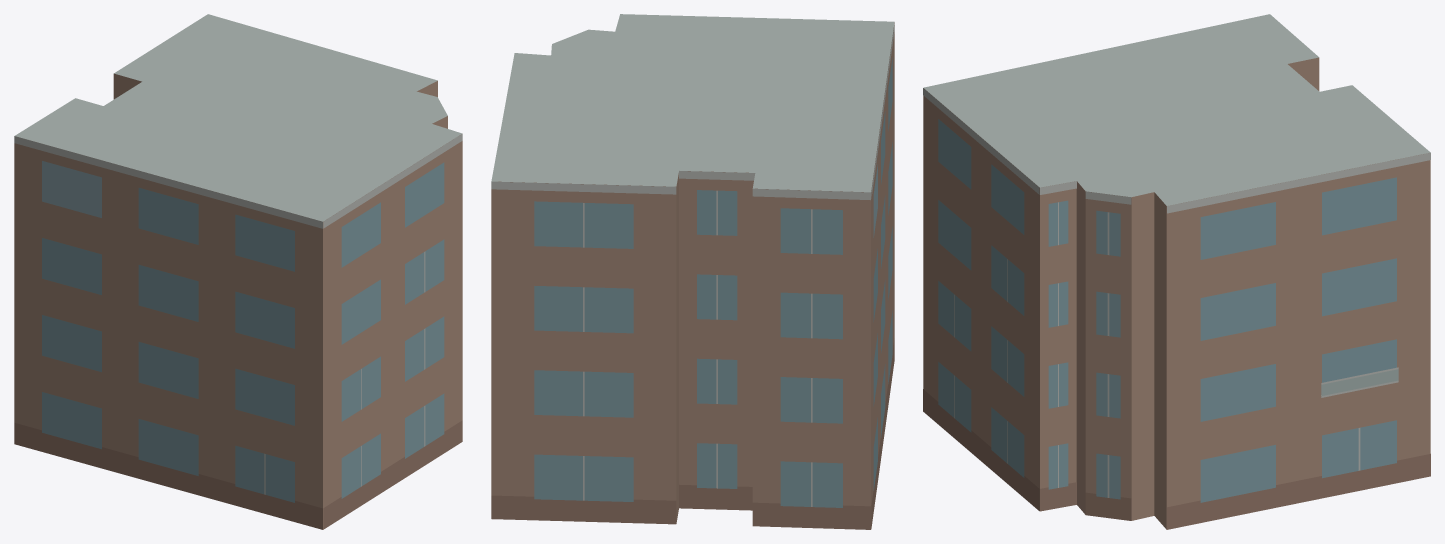
The model's file is survey-upis-32744216.glb.
The picture shows the model from 3 angles, left to right: view 1: azimuth 30°, elevation 25°; view 2: azimuth 150°, elevation 25°; view 3: azimuth 270°, elevation 25°; orthographic projection. The views are drawn at different scales.
Visible parts, largest first — view 1: survey-upis-32744216.tmp; view 2: survey-upis-32744216.tmp; view 3: survey-upis-32744216.tmp.
Part boxes in pixels (x1=…): survey-upis-32744216.tmp: x1=14, y1=14, x2=462, y2=529; survey-upis-32744216.tmp: x1=491, y1=14, x2=894, y2=529; survey-upis-32744216.tmp: x1=923, y1=14, x2=1430, y2=529.
Bounding box in the file's own units: 13.37 × 10.5 × 14.93.
